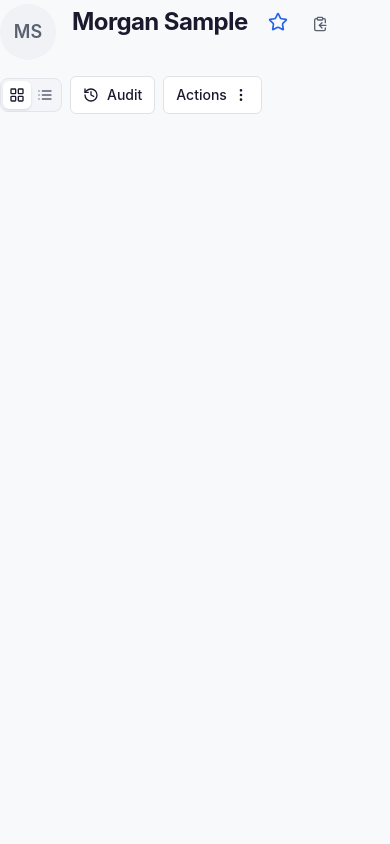
Test: RecordViewHeader for a read-only user › offers Developer Mode and Audit from the phone sheet
Click the button with aria-label "Record actions" at point(213, 95), box [163,76,262,114]
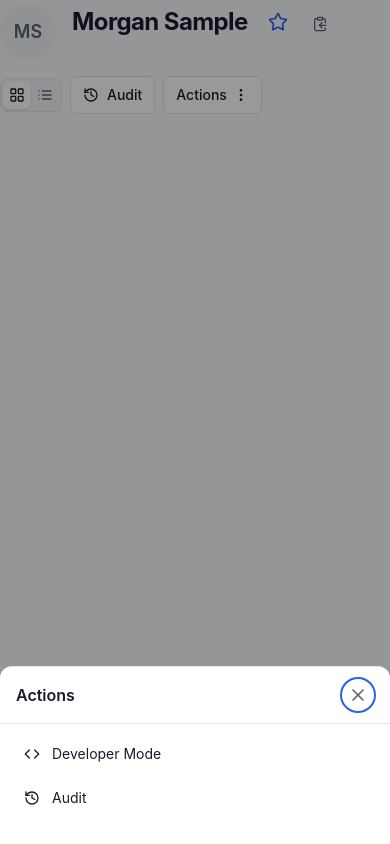
Now the button "Developer Mode" is shown, box [0,732,389,776]
Now the button "Audit" is shown, box [0,776,389,820]
